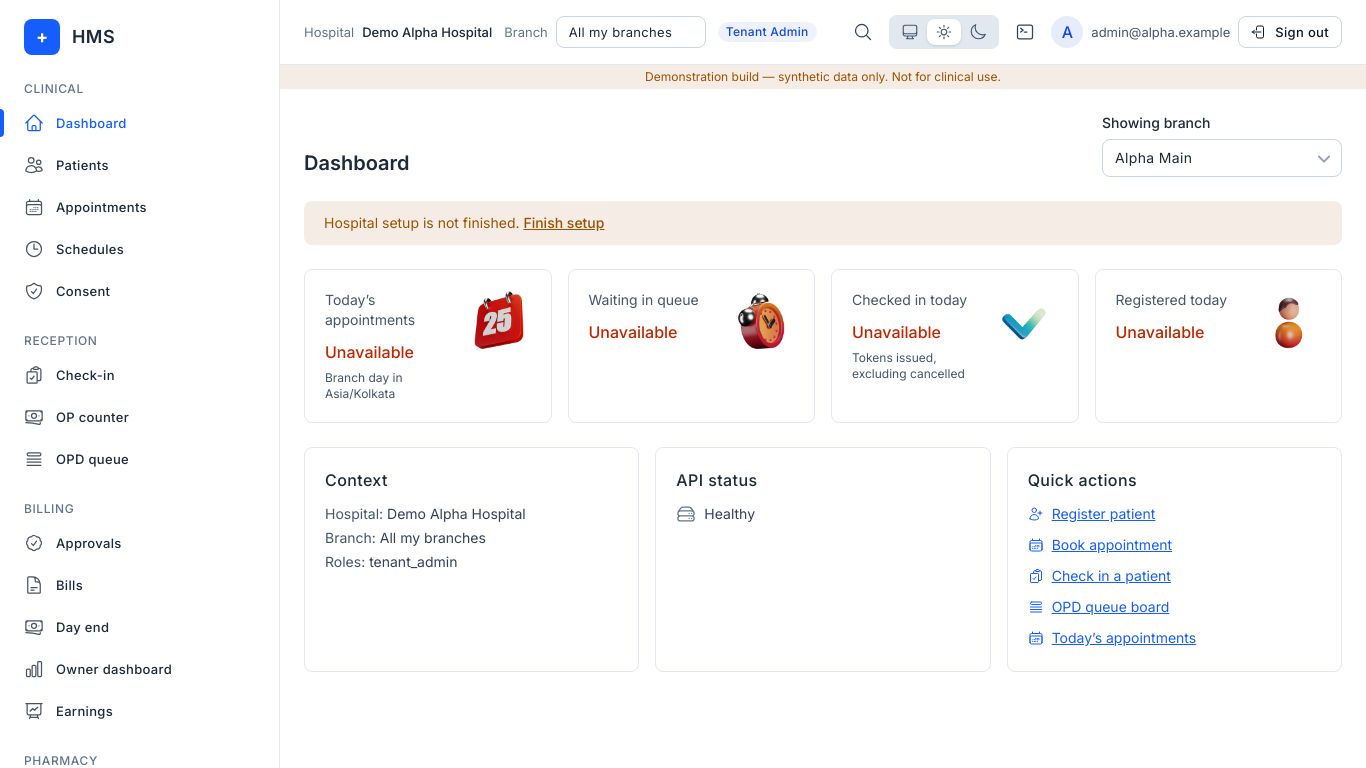
Scenario: setup wizard gate › offers Finish setup again from the banner
The image size is (1366, 768).
Click the link "Finish setup".
click(564, 222)  # box [523, 214, 604, 231]
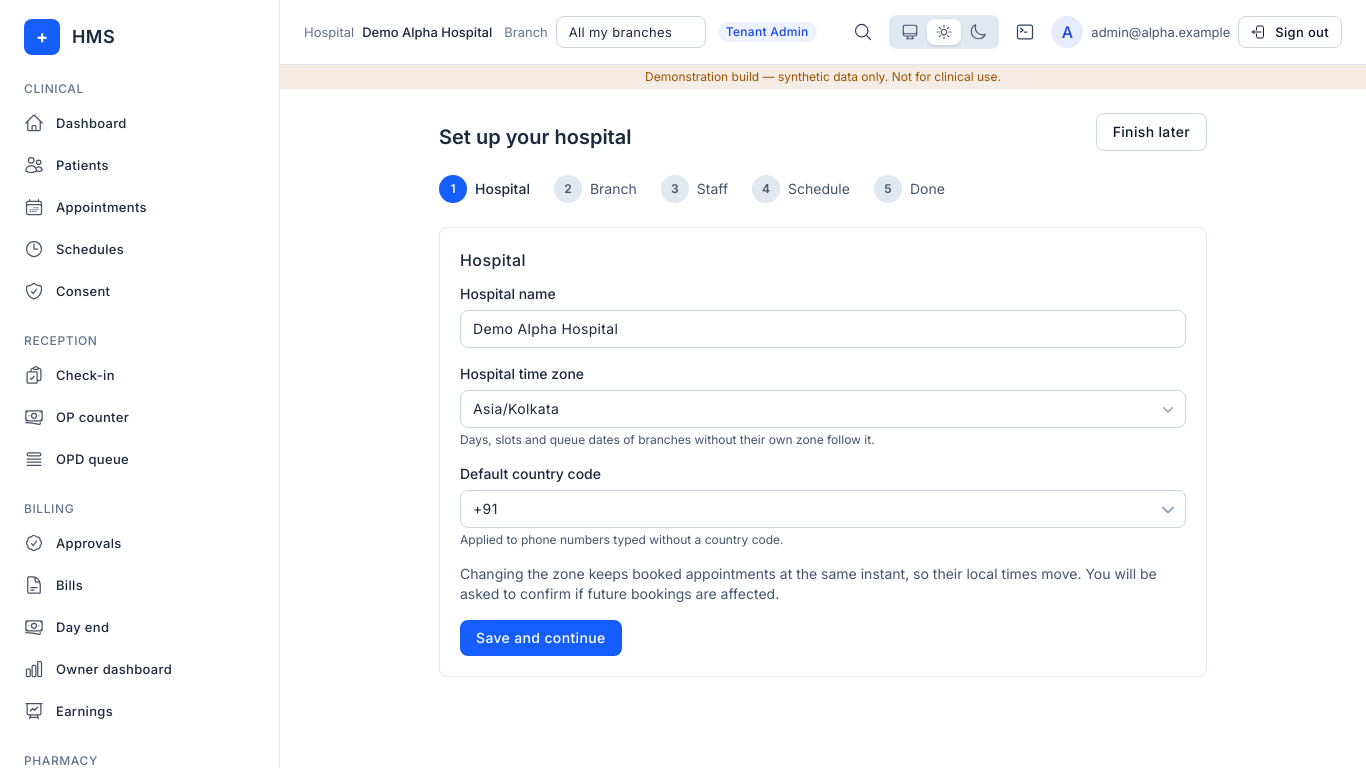
Result: the heading "Set up your hospital" is shown at [439, 123, 632, 151]
